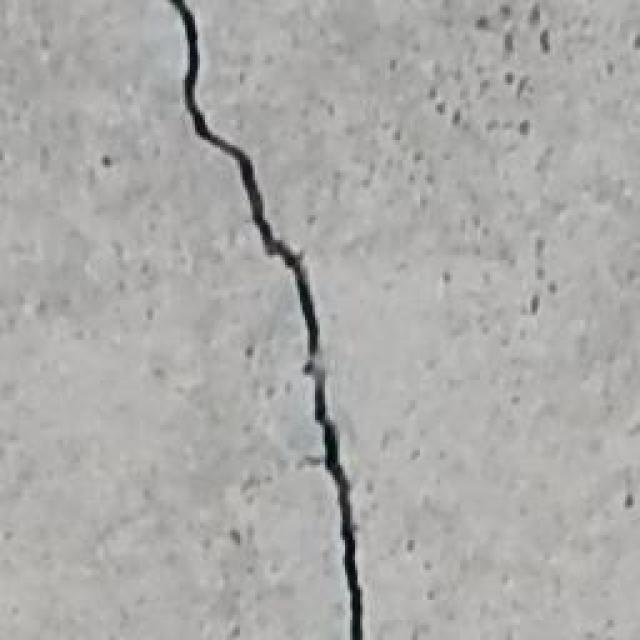concrete-crack: (168, 0, 370, 640)
